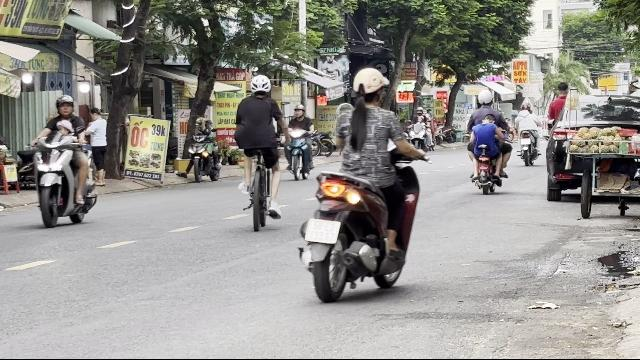helmet: (351, 66, 389, 106), (55, 119, 73, 139), (56, 96, 74, 116)
licenseplate: (306, 220, 340, 244)
motorcyclist: (298, 62, 426, 302), (28, 93, 98, 226)
